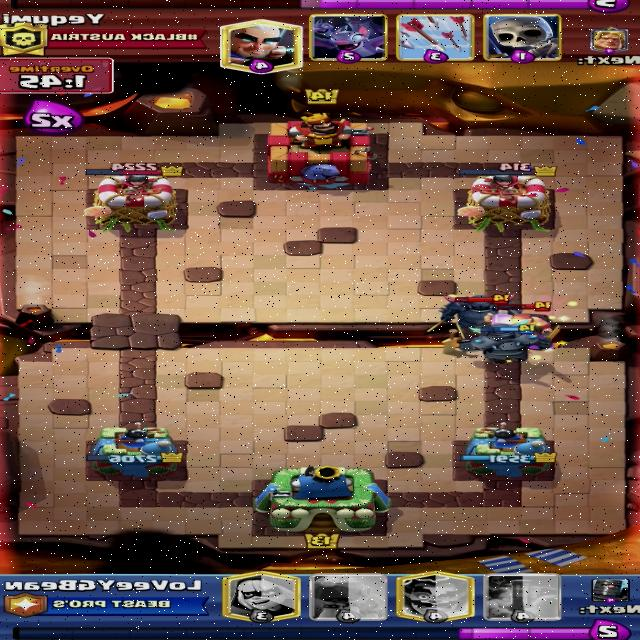Enemy-Lumberjack: (484, 301, 553, 335)
Enemy-PEKKA: (425, 295, 518, 332)
Player-PEKKA: (456, 322, 560, 363)
